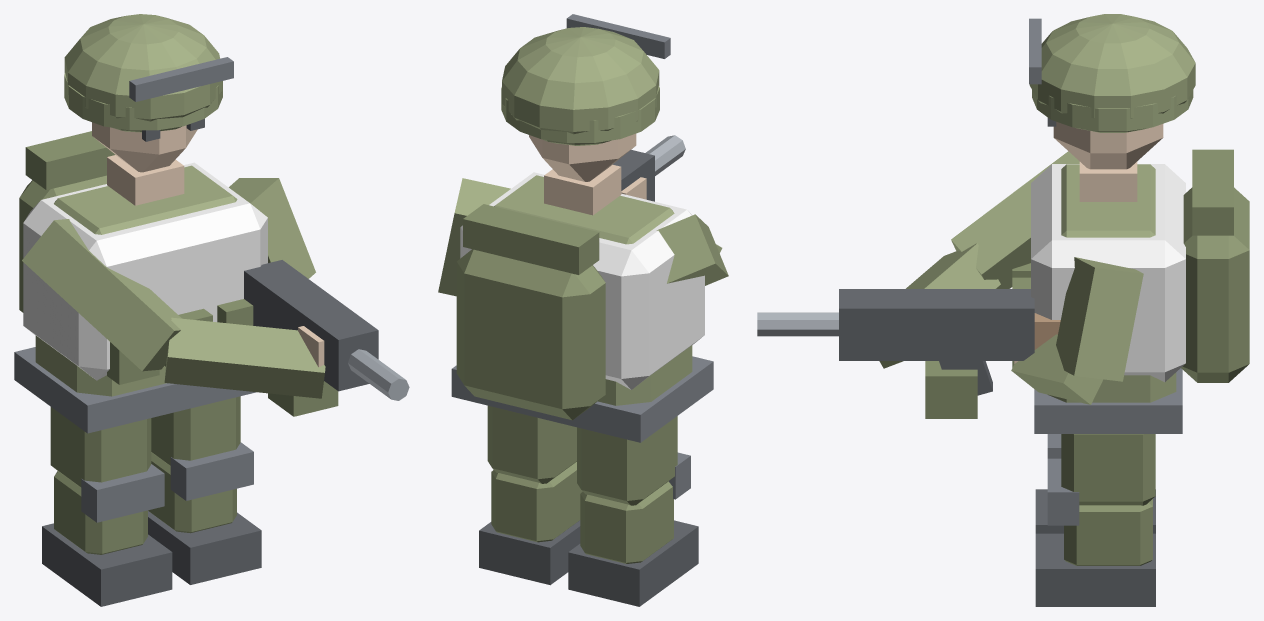
The model's file is rifle.glb.
3 renders of one model, left to right at view 1: azimuth 30°, elevation 25°; view 2: azimuth 150°, elevation 25°; view 3: azimuth 270°, elevation 25°, orthographic.
Parts seen in each view (by area): view 1: main, shinl, shinr, legl, legr; view 2: main, shinl, shinr, legl, legr; view 3: main, shinr, legr, shinl.
Part boxes in pixels (box(x1,y1,x2,y2)): main: box(14, 14, 409, 433); shinl: box(42, 464, 172, 606); shinr: box(148, 442, 261, 584); legl: box(50, 407, 151, 487); legr: box(151, 396, 240, 465); main: box(438, 14, 728, 442); shinl: box(568, 452, 698, 606); shinr: box(479, 462, 582, 585); legl: box(577, 416, 677, 505); legr: box(487, 405, 576, 483); main: box(757, 14, 1249, 433); shinr: box(1035, 458, 1155, 606); legr: box(1061, 434, 1155, 505); shinl: box(1035, 434, 1155, 533).
Size of the model in its own units: 0.3161 by 0.5733 by 0.4707.
